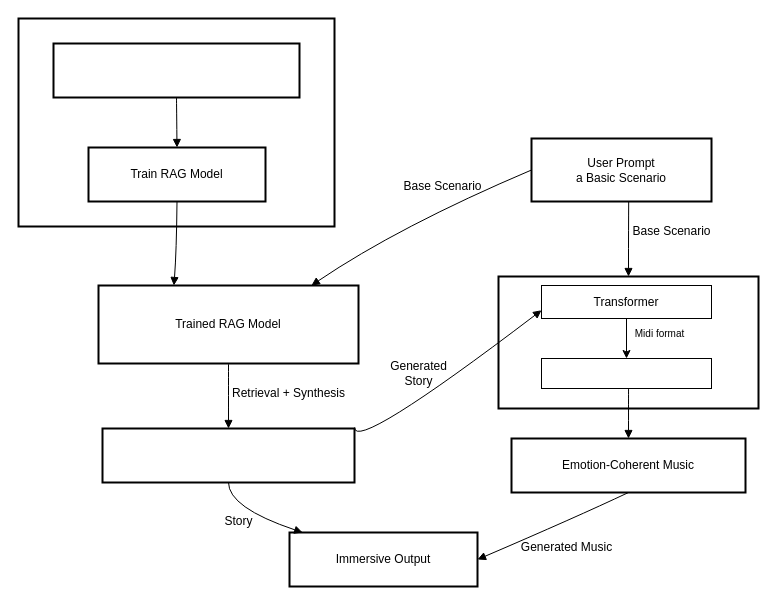
The diagram is 776 pixels wide and 604 high, and some of its shapes have lost their labels. The centre of each missing label's shape, as x and y in pixels:
"Diffusion" belongs at pixel 626 373.
"Preprocess Story Data" belongs at pixel 176 70.
"Rich Story Based on User Input" belongs at pixel 228 455.
